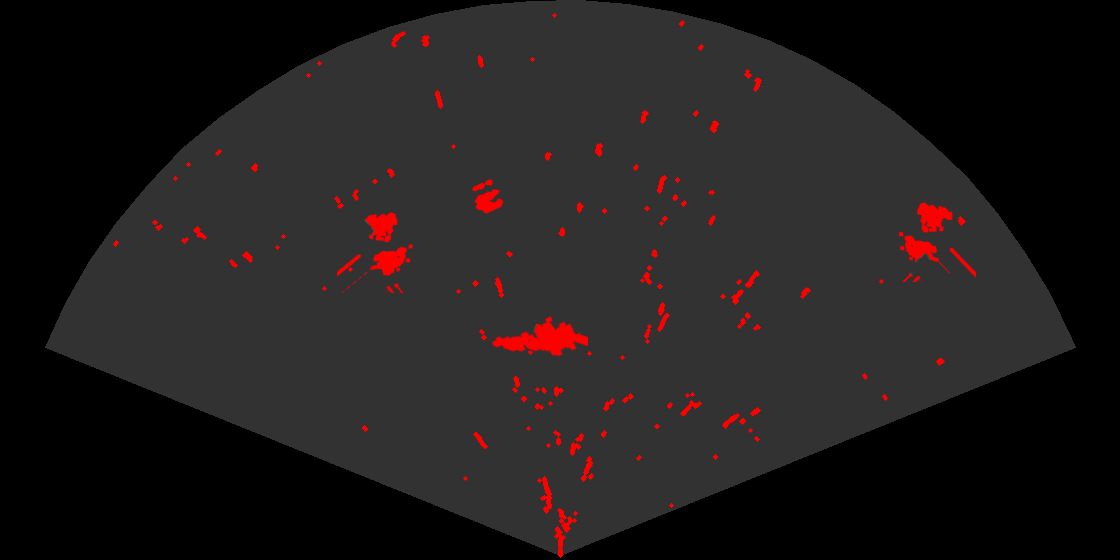ball: (471, 178, 505, 215)
cage: (897, 201, 976, 282), (337, 211, 415, 293)
frogman: (490, 314, 588, 358)
